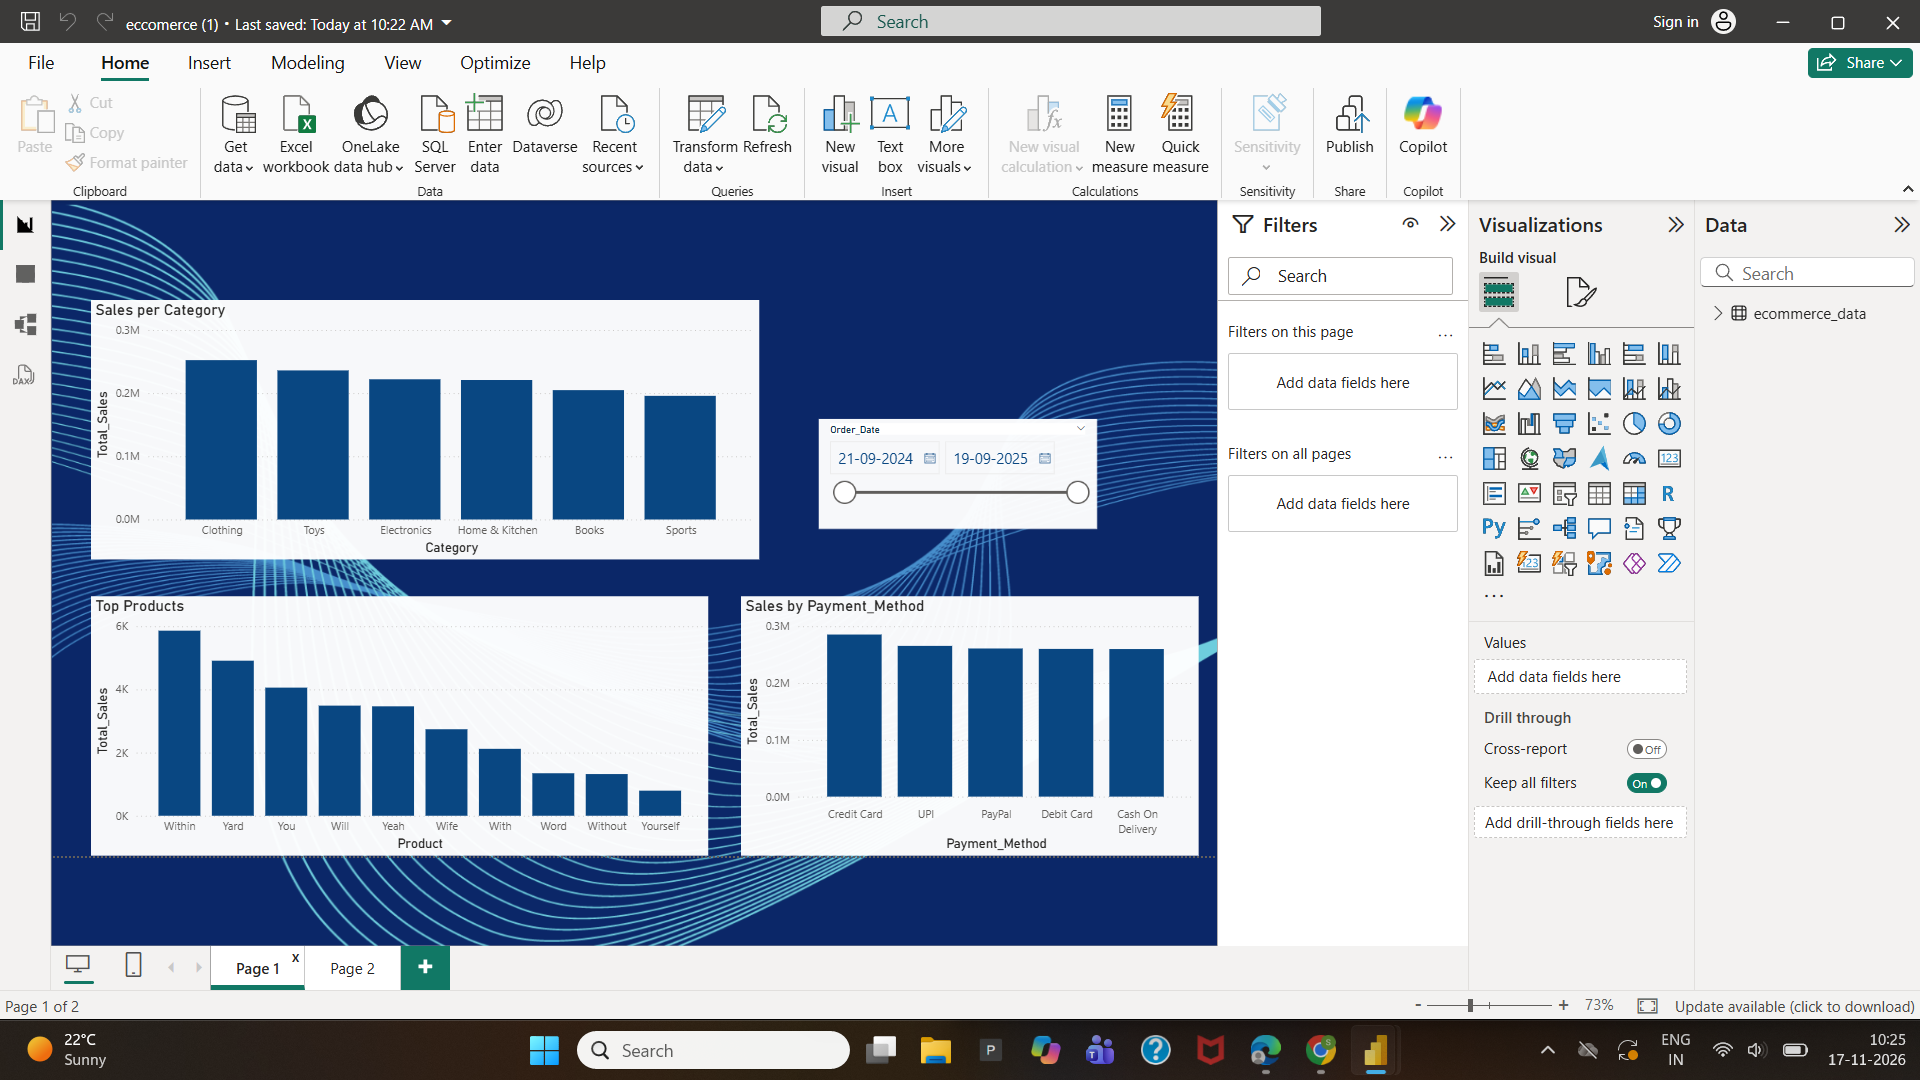

Layout of this report page (visuals, bound fields, positions):
{"tool":"powerbi","page":{"name":"Page 1","canvas":[1280,720],"ordinal":0},"visuals":[{"type":"clusteredColumnChart","title":"Sales per Category","fields":{"Category":["ecommerce_data.Category"],"Y":["Sum(ecommerce_data.Price)"]},"box":[44.1,110.1,733.8,285],"z":0},{"type":"columnChart","title":"Top Products","fields":{"Category":["ecommerce_data.Product"],"Y":["Sum(ecommerce_data.Price)"]},"box":[44.1,435,677.3,285],"z":1000},{"type":"clusteredColumnChart","title":"Sales by Payment_Method","fields":{"Category":["ecommerce_data.Payment_Method"],"Y":["Sum(ecommerce_data.Price)"]},"box":[757.2,435,502.5,285],"z":2000},{"type":"slicer","fields":{"Values":["ecommerce_data.Order_Date"]},"box":[842.5,239.5,305.6,121.1],"z":3001}]}

Visuals, with their boxes on the page's 1280x720 design canvas (x1, y1, x2, y2). These are canvas units, not pixel positions in the 1920x1080 screenshot, which may show the page scaled, cropped or inside an application window:
"Sales per Category" clusteredColumnChart: {"x1": 44, "y1": 110, "x2": 778, "y2": 395}
"Top Products" columnChart: {"x1": 44, "y1": 435, "x2": 721, "y2": 720}
"Sales by Payment_Method" clusteredColumnChart: {"x1": 757, "y1": 435, "x2": 1260, "y2": 720}
slicer - ecommerce_data.Order_Date: {"x1": 842, "y1": 240, "x2": 1148, "y2": 361}
